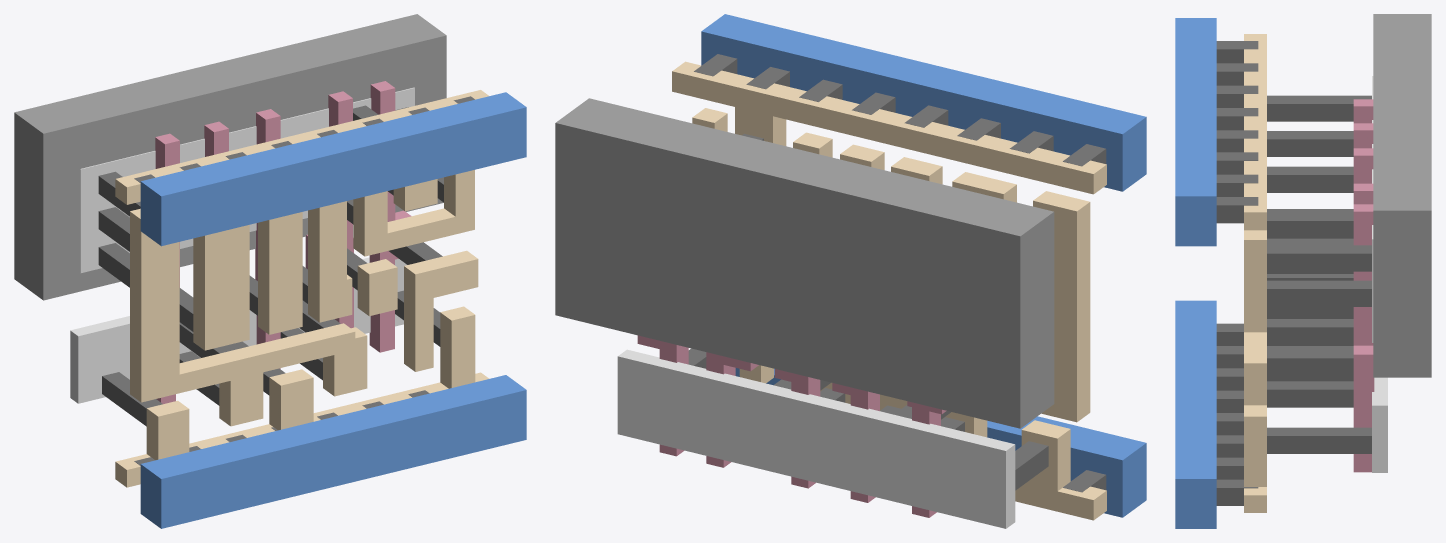
The model's file is sky130_fd_sc_hd__a2111oi_1.gds.gltf.
The picture shows the model from 3 angles, left to right: view 1: azimuth 30°, elevation 25°; view 2: azimuth 150°, elevation 25°; view 3: azimuth 270°, elevation 25°; orthographic projection. The views are drawn at different scales.
Parts seen in each view (by area): view 1: sky130_fd_sc_hd__a2111oi_1_li1, sky130_fd_sc_hd__a2111oi_1_met1, sky130_fd_sc_hd__a2111oi_1_nwell, sky130_fd_sc_hd__a2111oi_1_diff, sky130_fd_sc_hd__a2111oi_1_licon, sky130_fd_sc_hd__a2111oi_1_poly, sky130_fd_sc_hd__a2111oi_1_mcon; view 2: sky130_fd_sc_hd__a2111oi_1_nwell, sky130_fd_sc_hd__a2111oi_1_diff, sky130_fd_sc_hd__a2111oi_1_li1, sky130_fd_sc_hd__a2111oi_1_met1, sky130_fd_sc_hd__a2111oi_1_mcon, sky130_fd_sc_hd__a2111oi_1_poly, sky130_fd_sc_hd__a2111oi_1_licon; view 3: sky130_fd_sc_hd__a2111oi_1_licon, sky130_fd_sc_hd__a2111oi_1_nwell, sky130_fd_sc_hd__a2111oi_1_met1, sky130_fd_sc_hd__a2111oi_1_mcon, sky130_fd_sc_hd__a2111oi_1_li1, sky130_fd_sc_hd__a2111oi_1_poly, sky130_fd_sc_hd__a2111oi_1_diff.
Boxes of the visible parts, x1,y1,x2,y2 form: sky130_fd_sc_hd__a2111oi_1_li1: (115, 90, 489, 487); sky130_fd_sc_hd__a2111oi_1_met1: (140, 92, 526, 528); sky130_fd_sc_hd__a2111oi_1_nwell: (14, 14, 446, 300); sky130_fd_sc_hd__a2111oi_1_diff: (70, 87, 414, 403); sky130_fd_sc_hd__a2111oi_1_licon: (98, 105, 443, 426); sky130_fd_sc_hd__a2111oi_1_poly: (155, 81, 411, 404); sky130_fd_sc_hd__a2111oi_1_mcon: (134, 96, 474, 465); sky130_fd_sc_hd__a2111oi_1_nwell: (555, 98, 1054, 428); sky130_fd_sc_hd__a2111oi_1_diff: (617, 349, 1015, 528); sky130_fd_sc_hd__a2111oi_1_li1: (672, 61, 1106, 520); sky130_fd_sc_hd__a2111oi_1_met1: (701, 14, 1146, 517); sky130_fd_sc_hd__a2111oi_1_mcon: (694, 54, 1106, 492); sky130_fd_sc_hd__a2111oi_1_poly: (637, 335, 946, 517); sky130_fd_sc_hd__a2111oi_1_licon: (688, 133, 1048, 490); sky130_fd_sc_hd__a2111oi_1_licon: (1267, 95, 1371, 453); sky130_fd_sc_hd__a2111oi_1_nwell: (1373, 14, 1431, 377); sky130_fd_sc_hd__a2111oi_1_met1: (1175, 18, 1216, 528); sky130_fd_sc_hd__a2111oi_1_mcon: (1216, 41, 1258, 505); sky130_fd_sc_hd__a2111oi_1_li1: (1244, 34, 1266, 512); sky130_fd_sc_hd__a2111oi_1_poly: (1353, 99, 1374, 472); sky130_fd_sc_hd__a2111oi_1_diff: (1372, 76, 1387, 472).
Bounding box in the file's own units: 4.06 × 3.2 × 2.24.
